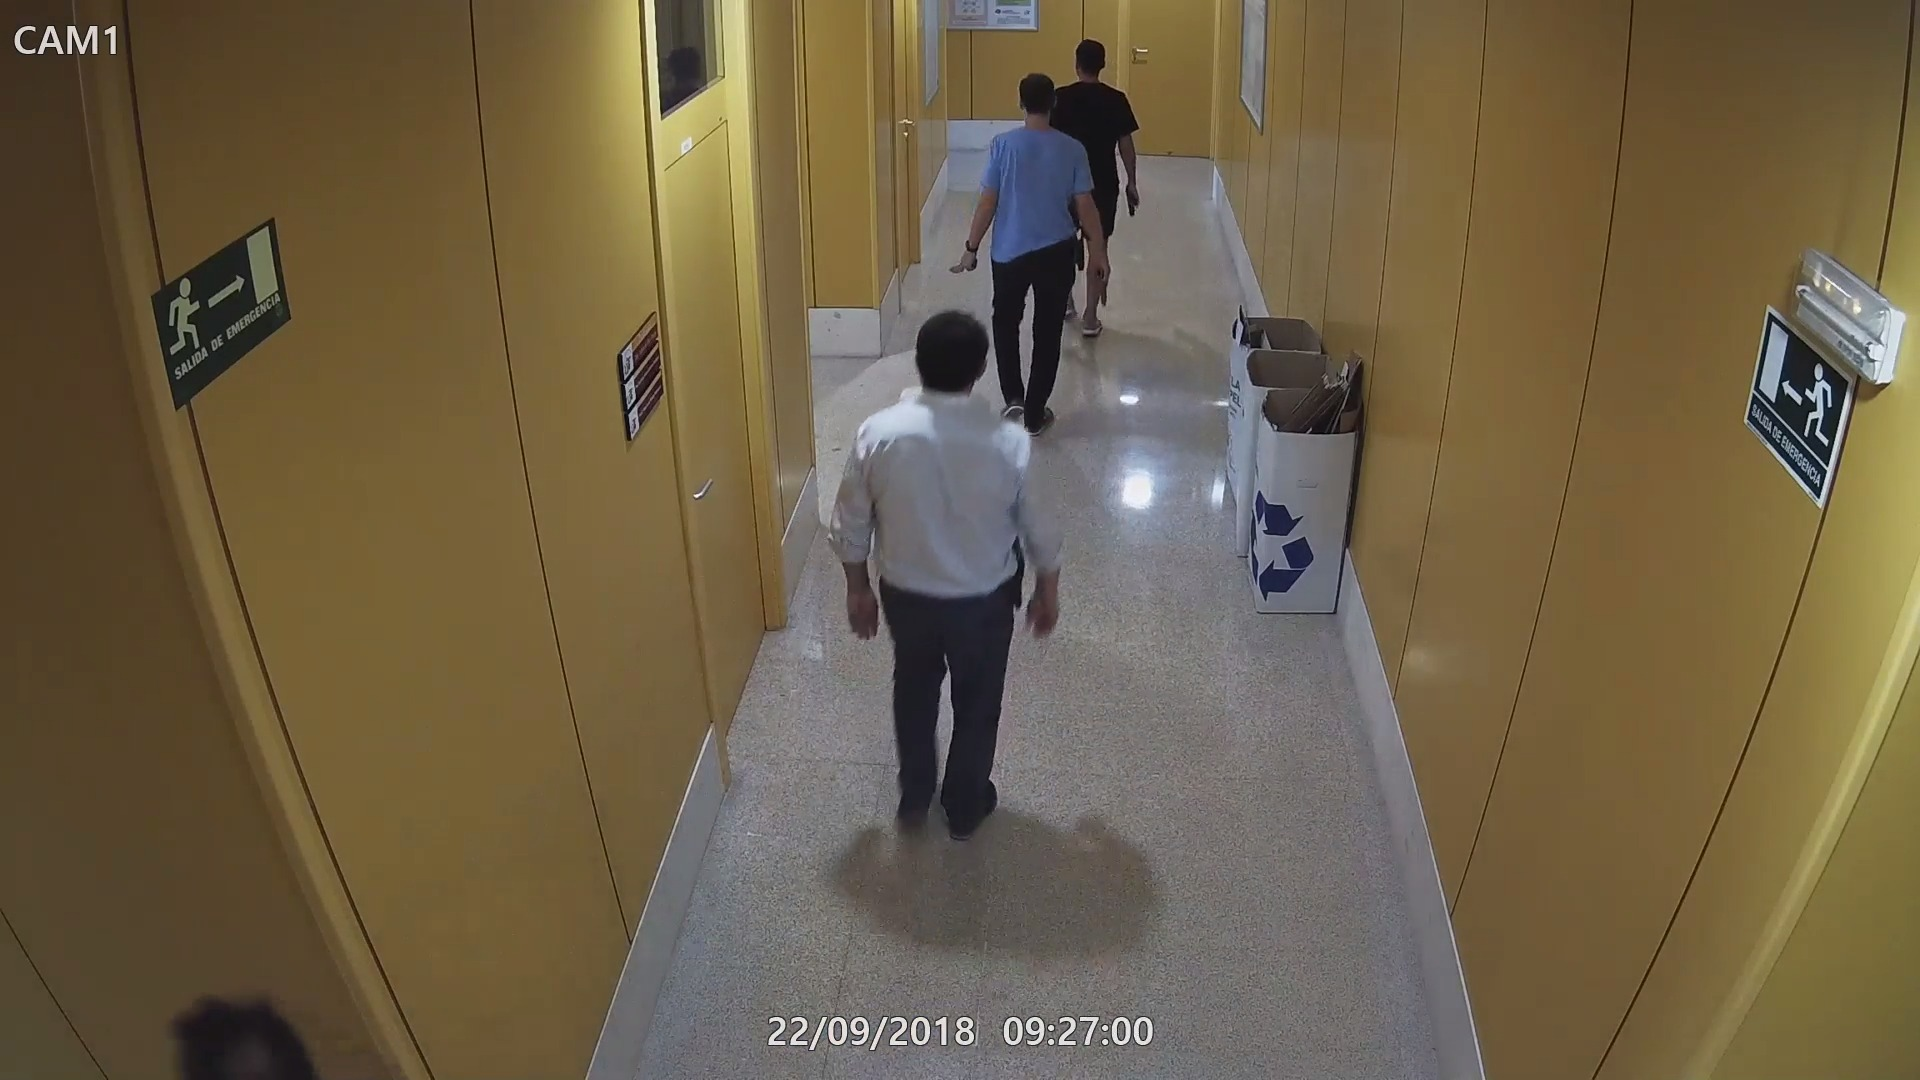Handgun: (1087, 258, 1112, 309), (1120, 182, 1146, 219)
Knife: (948, 249, 981, 276)
